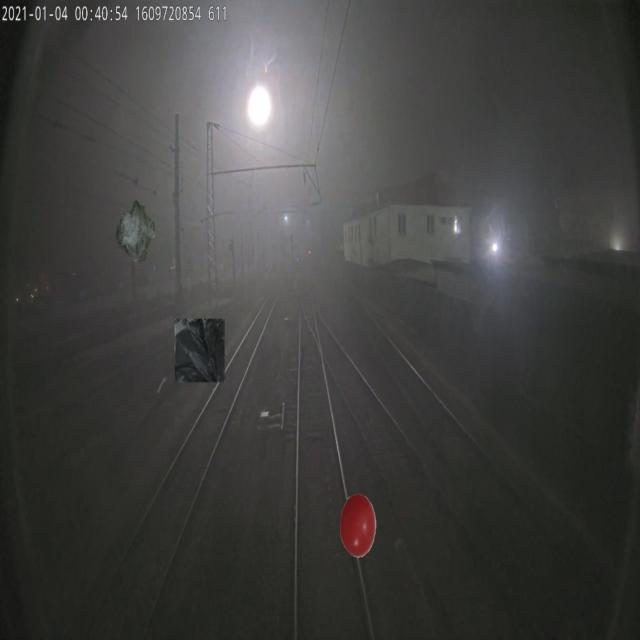balloon: (339, 493, 376, 558)
plastic bag: (174, 318, 225, 382), (115, 198, 156, 262)
